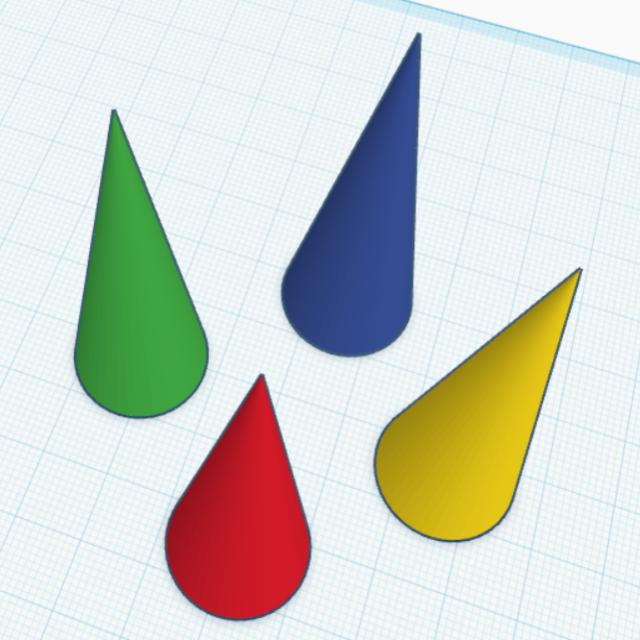cone: (370, 263, 587, 548), (278, 28, 426, 361), (70, 105, 212, 422), (162, 371, 316, 624)
